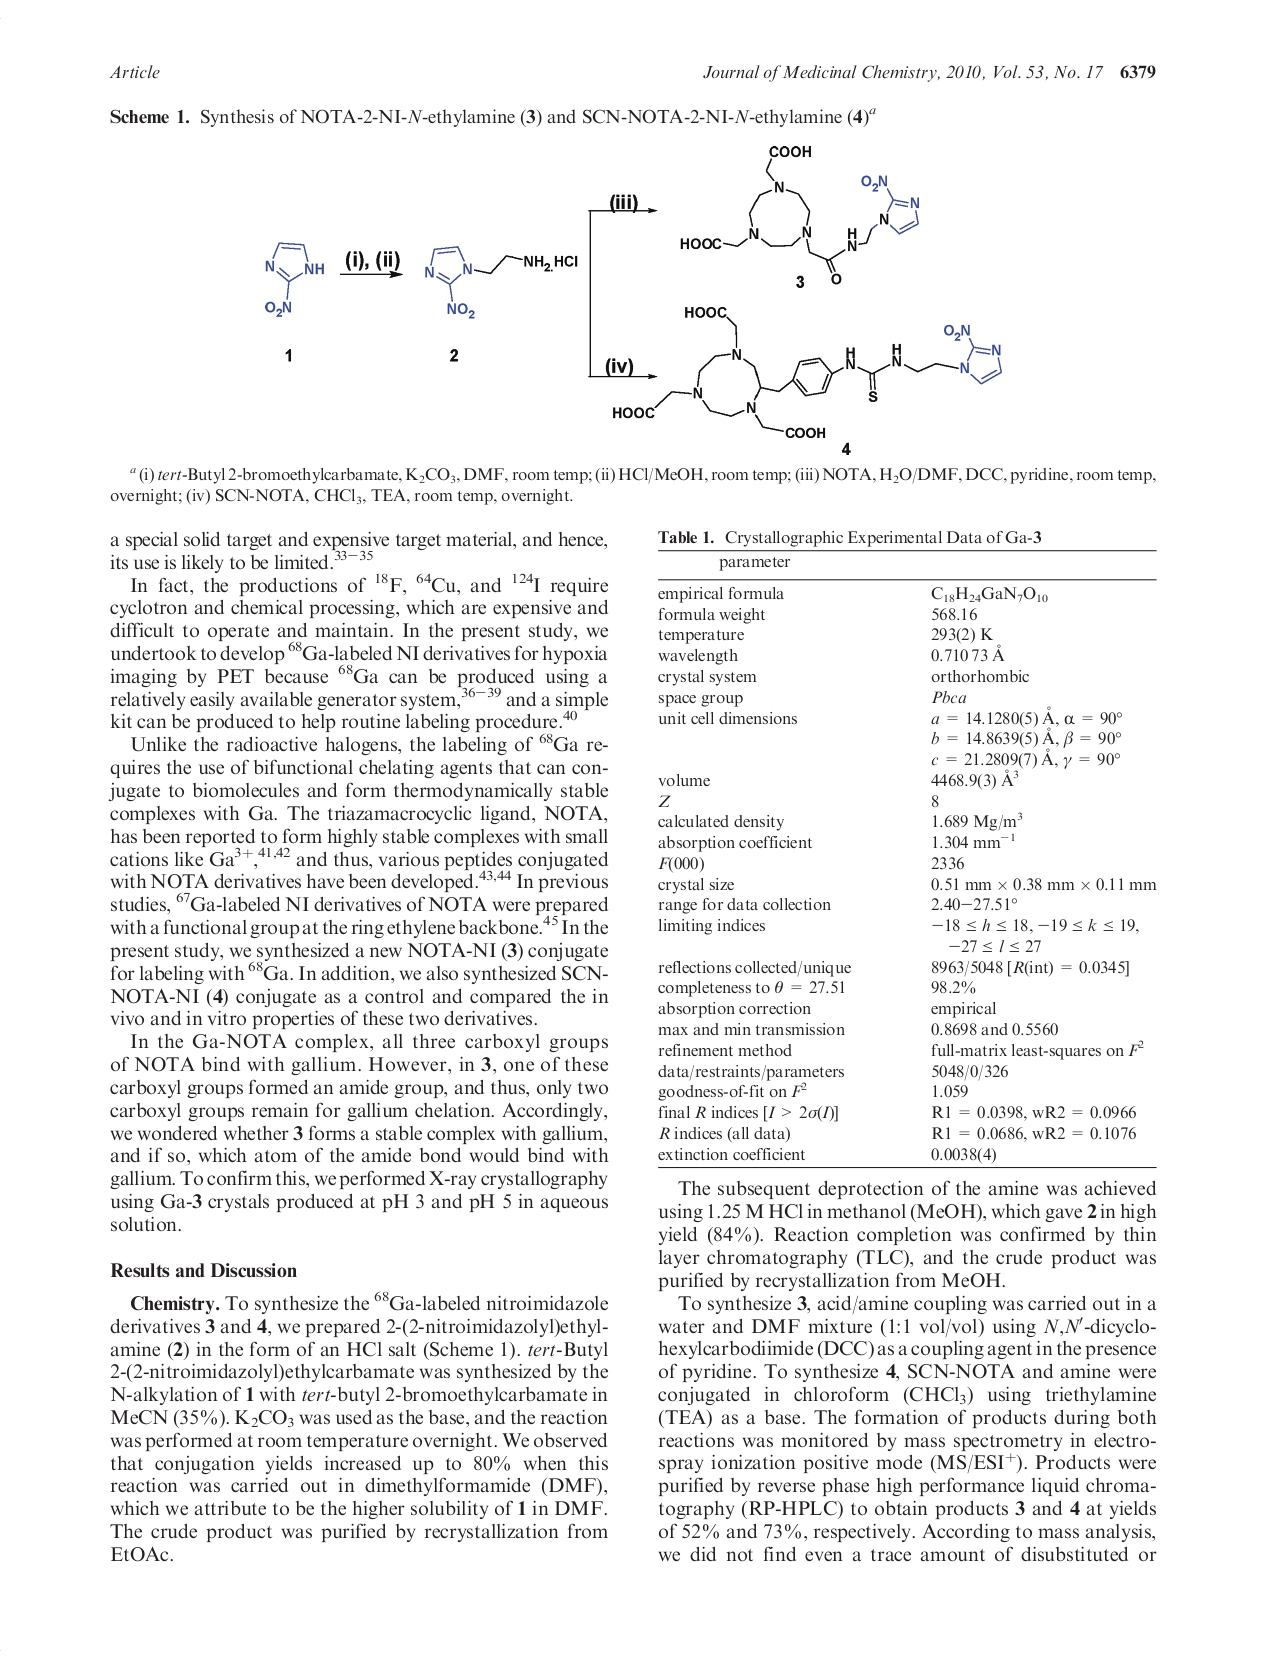exist_molecular: (610, 301, 1005, 442), (678, 144, 922, 289), (423, 241, 553, 319), (262, 237, 326, 319)
